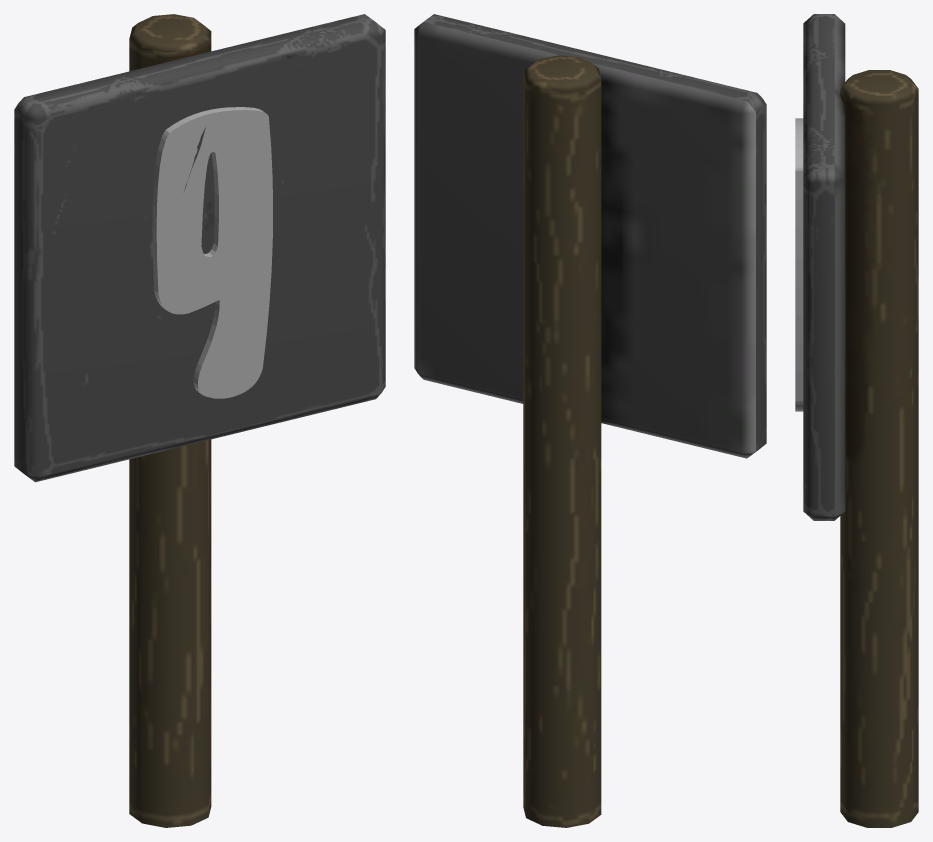
Rendered from sign9.fbx.
3 views of the same model, side by side, from view 1: azimuth 30°, elevation 25°; view 2: azimuth 150°, elevation 25°; view 3: azimuth 270°, elevation 25° (orthographic). The views are drawn at different scales.
Parts seen in each view (by area): view 1: sign9; view 2: sign9; view 3: sign9.
Part boxes in pixels (box(x1,y1,x2,y2)): sign9: box(14, 14, 385, 827); sign9: box(414, 14, 766, 827); sign9: box(795, 14, 918, 827).
Bounding box in the file's own units: 1 × 2.07 × 0.3174.
1 material, 1 textured.
